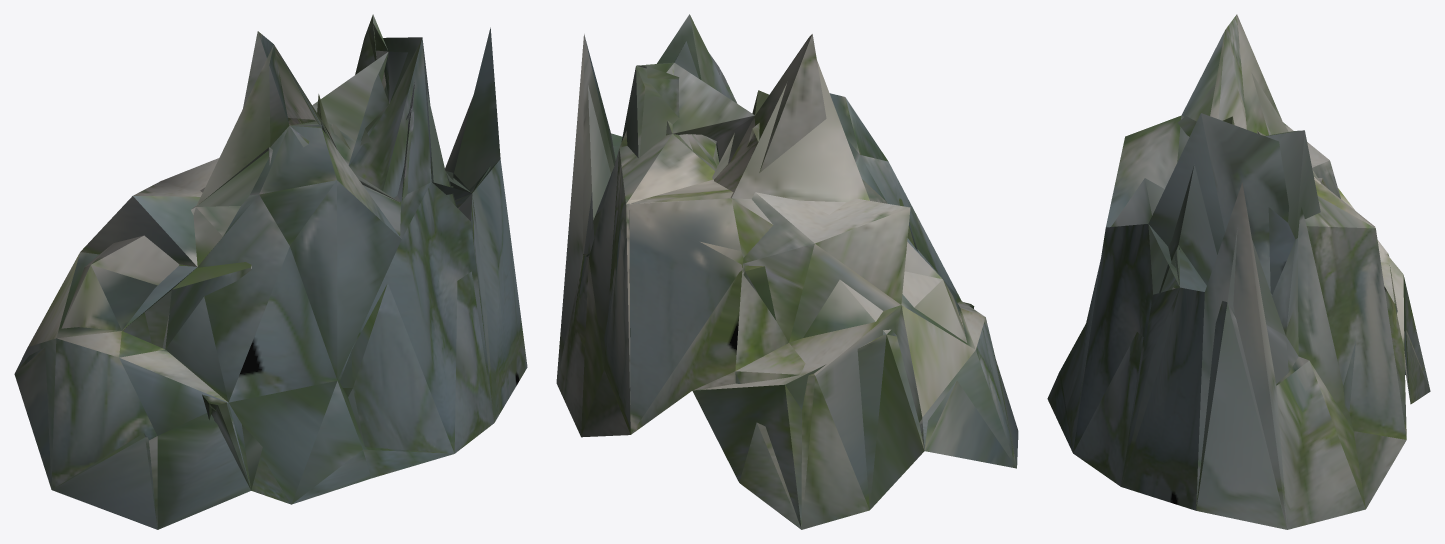
The model's file is SaddlePeaks_LOD2.fbx.
The picture shows the model from 3 angles, left to right: view 1: azimuth 30°, elevation 25°; view 2: azimuth 150°, elevation 25°; view 3: azimuth 270°, elevation 25°; orthographic projection. The views are drawn at different scales.
Parts seen in each view (by area): view 1: SaddlePeaks_LOD2; view 2: SaddlePeaks_LOD2; view 3: SaddlePeaks_LOD2.
Boxes of the visible parts, x1=… form: SaddlePeaks_LOD2: x1=14, y1=14, x2=527, y2=529; SaddlePeaks_LOD2: x1=556, y1=14, x2=1018, y2=529; SaddlePeaks_LOD2: x1=1047, y1=14, x2=1430, y2=529.
Bounding box in the file's own units: 34.33 × 30.38 × 25.17.
Materials: 1 (1 with a texture image).
